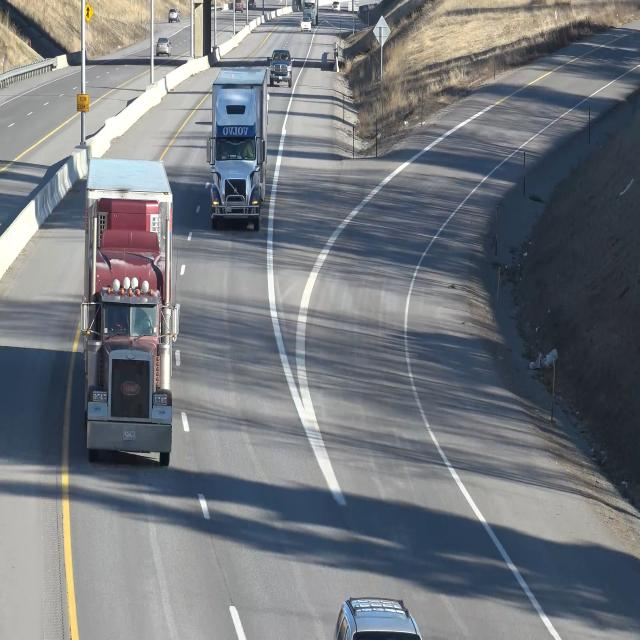Vehicle: (80, 143, 178, 462), (204, 63, 270, 228), (268, 44, 292, 90), (154, 34, 172, 60)
